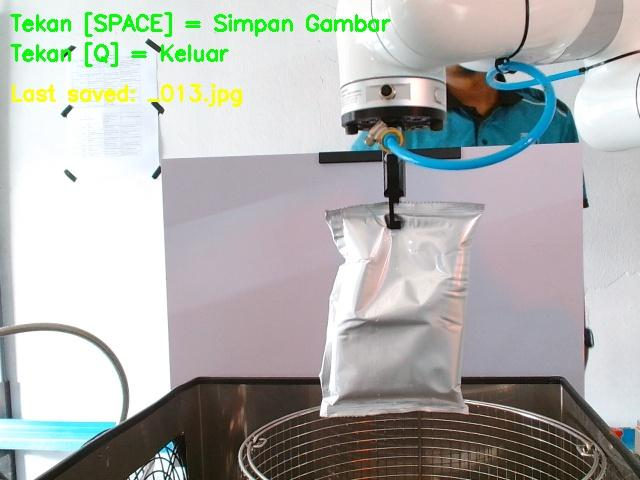retort-pouch: (314, 201, 481, 416)
